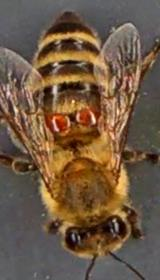varroa_mite: (38, 109, 76, 135), (70, 102, 100, 128)
